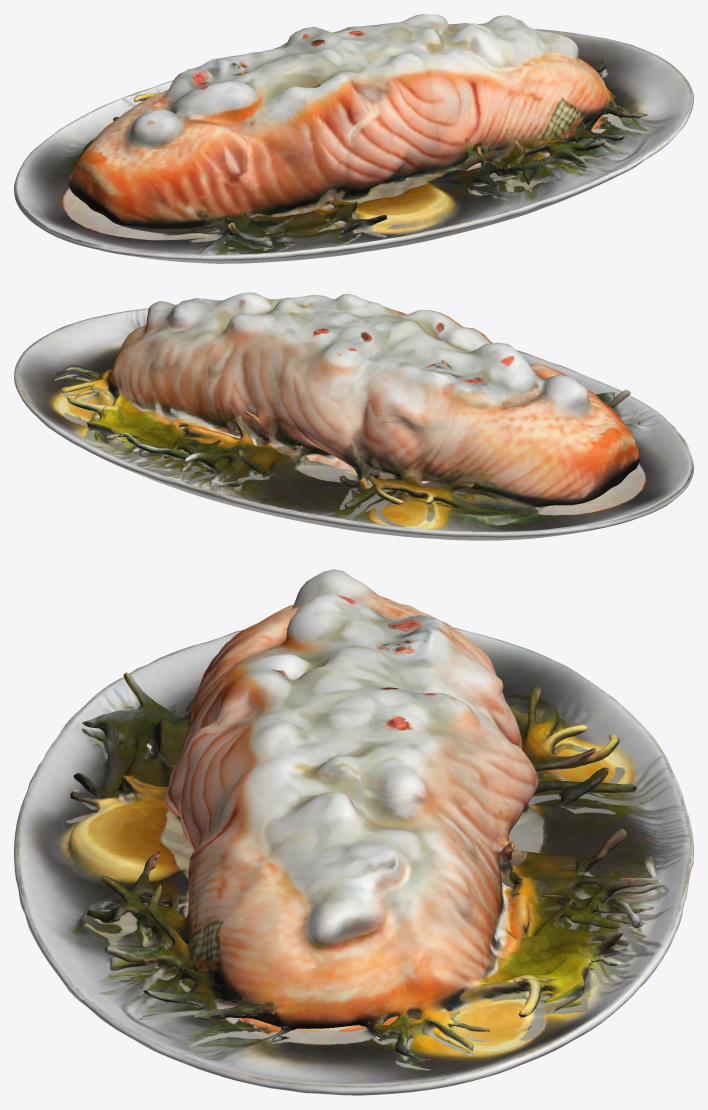
The model's file is Salmon.glb.
3 renders of one model, top to bottom at view 1: azimuth 30°, elevation 25°; view 2: azimuth 150°, elevation 25°; view 3: azimuth 270°, elevation 25°, orthographic. The views are drawn at different scales.
Bounding box in the file's own units: 2 × 0.3622 × 1.22.
Materials: 1 (1 with a texture image).
